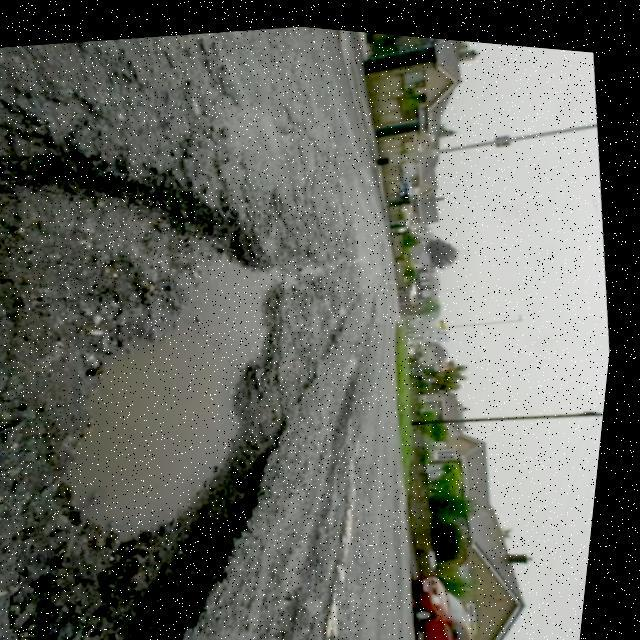pothole: (0, 118, 380, 640)
